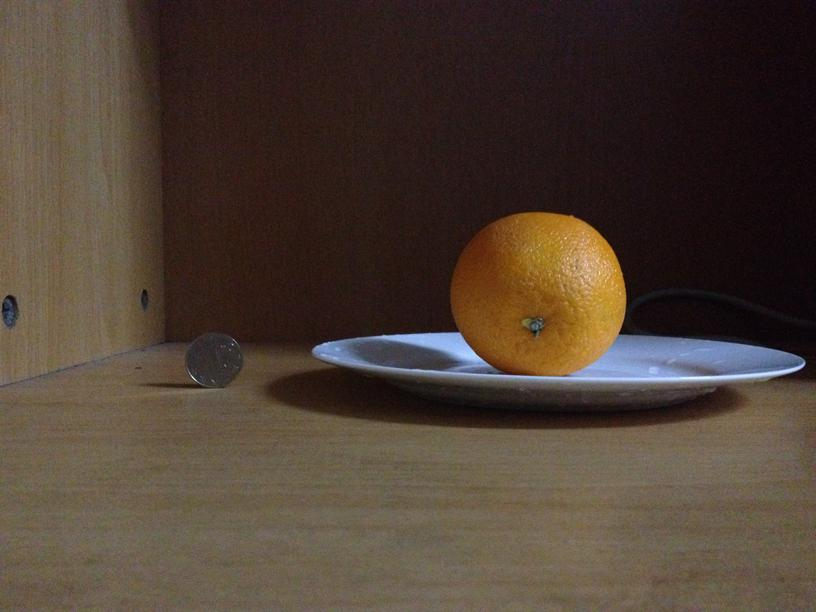coin: (183, 331, 244, 389)
orange: (451, 211, 627, 375)
